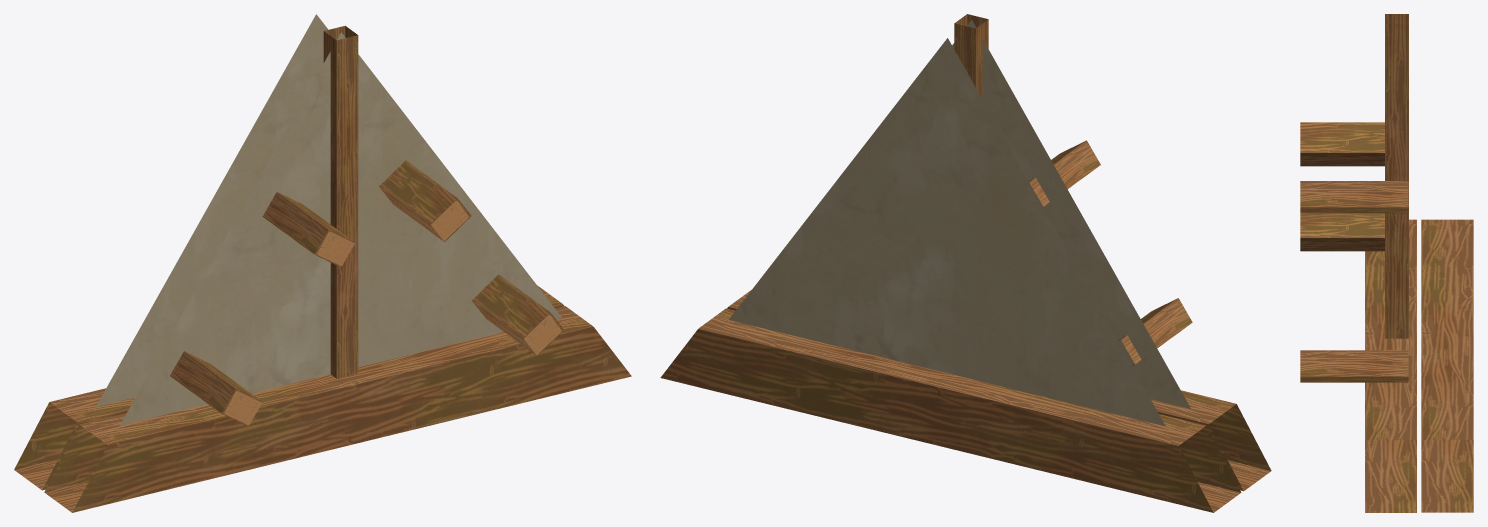
File: Roof_Front_Brick2.gltf
The picture shows the model from 3 angles, left to right: view 1: azimuth 30°, elevation 25°; view 2: azimuth 150°, elevation 25°; view 3: azimuth 270°, elevation 25°; orthographic projection. The views are drawn at different scales.
Visible parts, largest first — view 1: Roof_Front_Brick2; view 2: Roof_Front_Brick2; view 3: Roof_Front_Brick2.
Part boxes in pixels (box(x1,y1,x2,y2)): Roof_Front_Brick2: box(14, 14, 631, 512); Roof_Front_Brick2: box(660, 14, 1271, 512); Roof_Front_Brick2: box(1300, 14, 1473, 512).
Bounding box in the file's own units: 2.61 × 1.77 × 0.7513.
2 materials, 2 textured.
